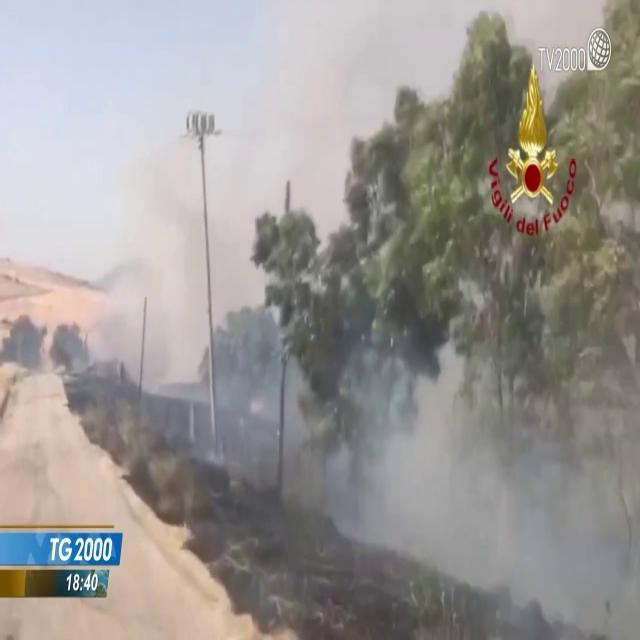Smoke: (240, 299, 554, 635)
